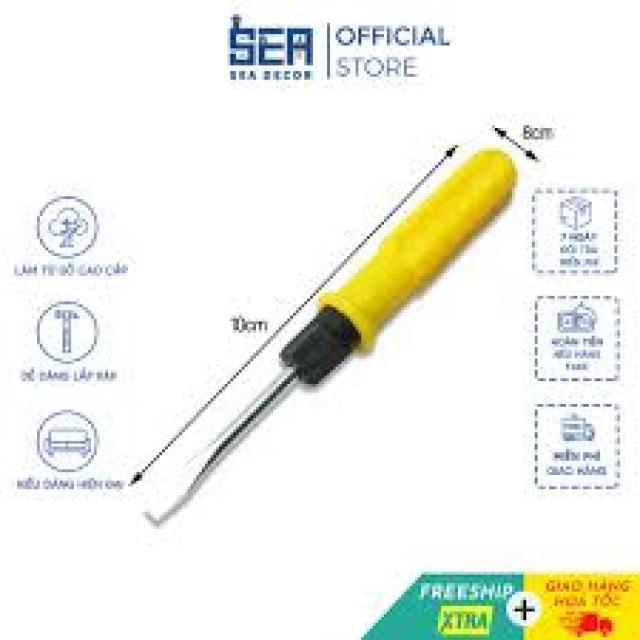screwdriver: (142, 143, 518, 524)
